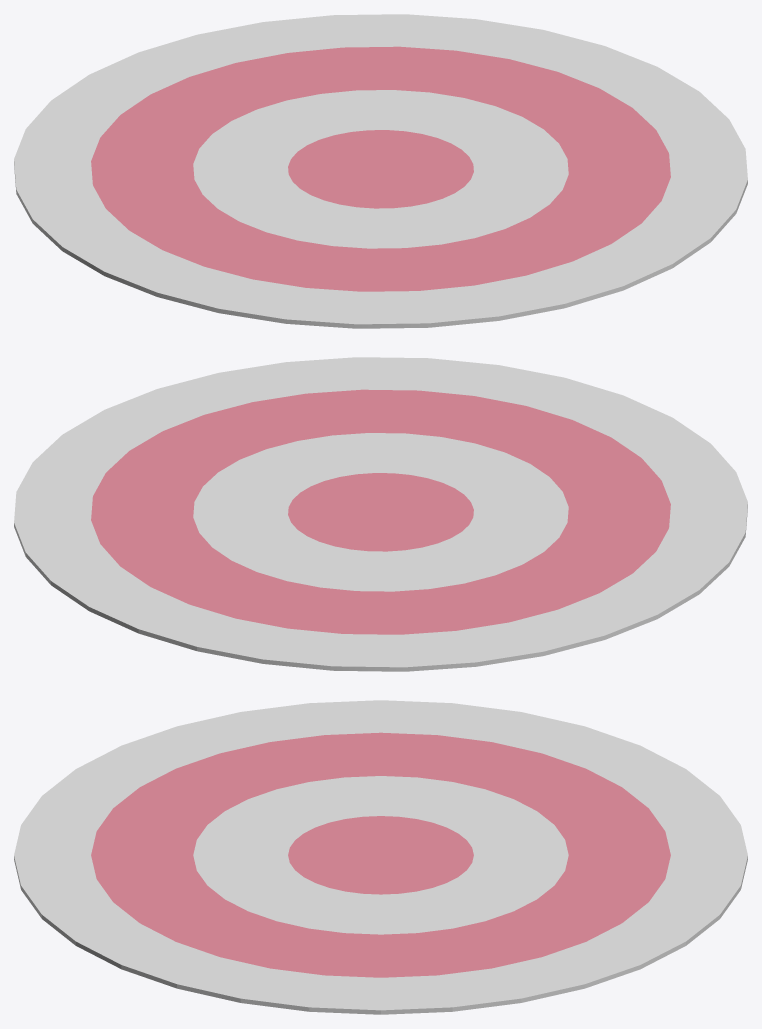
Rendered from Carpet_1.fbx.
3 renders of one model, top to bottom at view 1: azimuth 30°, elevation 25°; view 2: azimuth 150°, elevation 25°; view 3: azimuth 270°, elevation 25°, orthographic.
Visible parts, largest first — view 1: Carpet_1; view 2: Carpet_1; view 3: Carpet_1.
Part boxes in pixels (x1,y1,x2,y2): Carpet_1: [14, 14, 747, 328]; Carpet_1: [14, 357, 747, 671]; Carpet_1: [14, 700, 747, 1014].
Bounding box in the file's own units: 3 × 3 × 0.02.
